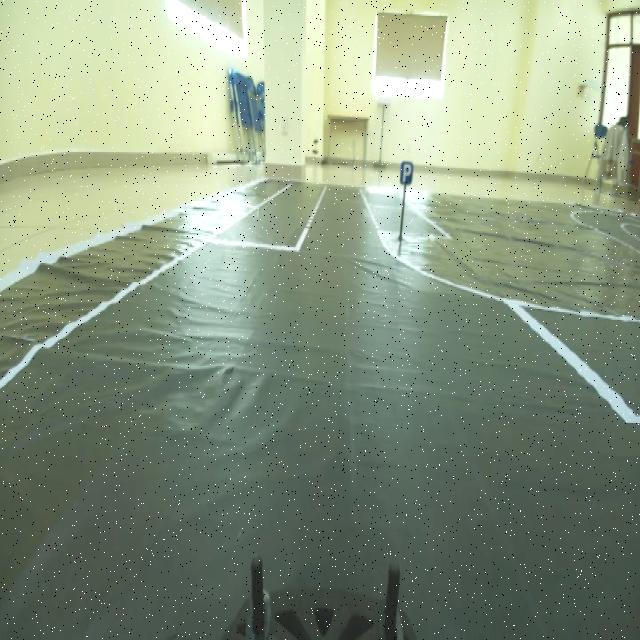parking: (394, 151, 415, 190)
